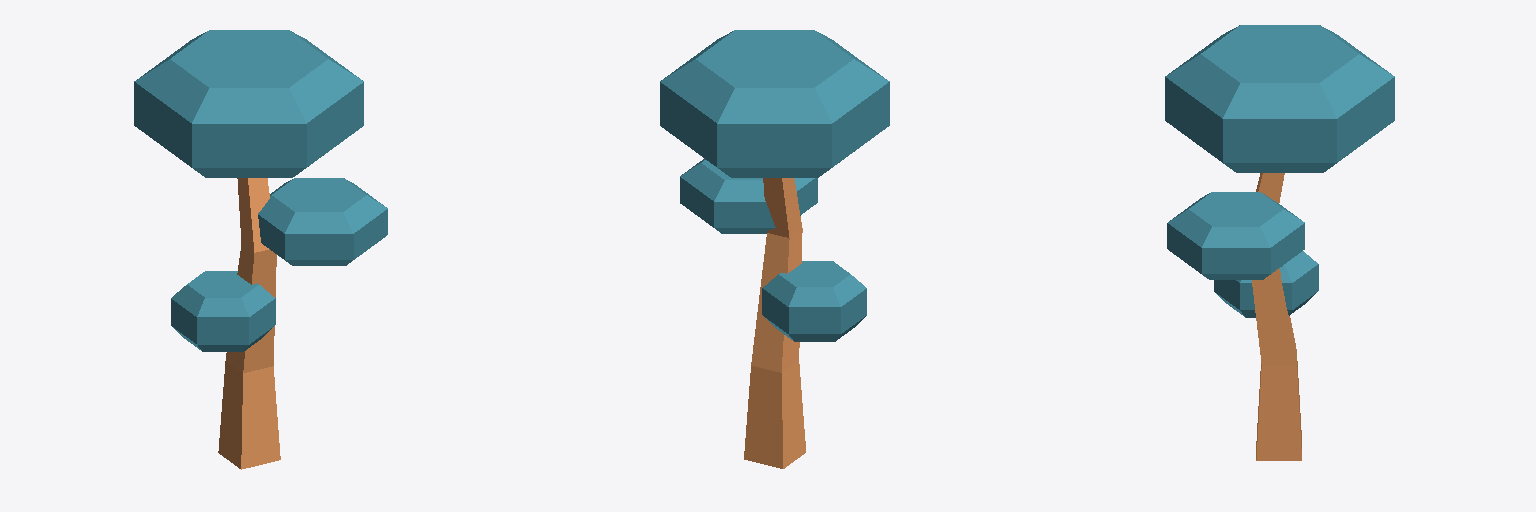
The model's file is tree_plateau_dark.obj.
The picture shows the model from 3 angles: view 1: azimuth 30°, elevation 25°; view 2: azimuth 150°, elevation 25°; view 3: azimuth 270°, elevation 25°; orthographic projection.
Visible parts, largest first — view 1: tree_plateau_dark; view 2: tree_plateau_dark; view 3: tree_plateau_dark.
Boxes of the visible parts, x1=… form: tree_plateau_dark: x1=134, y1=30, x2=387, y2=469; tree_plateau_dark: x1=660, y1=30, x2=889, y2=468; tree_plateau_dark: x1=1165, y1=25, x2=1394, y2=460.
Bounding box in the file's own units: 6.12 × 12.49 × 6.55.